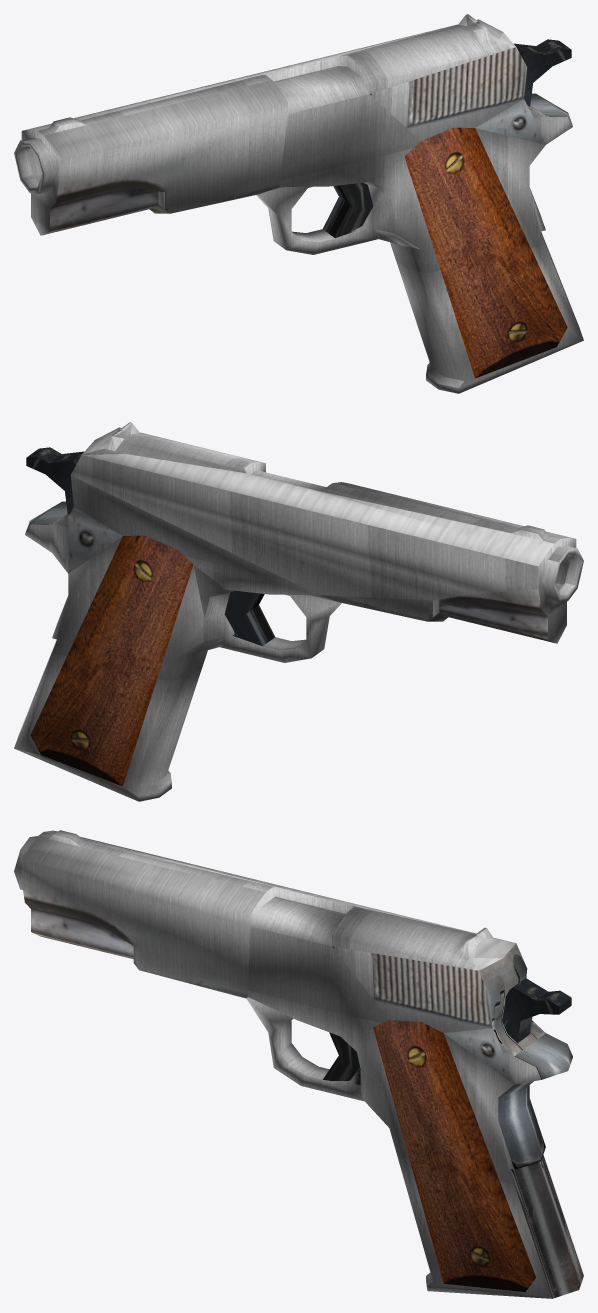
File: colt1911.glb
3 renders of one model, top to bottom at view 1: azimuth 30°, elevation 25°; view 2: azimuth 150°, elevation 25°; view 3: azimuth 330°, elevation 25°, orthographic.
Visible parts, largest first — view 1: handle, Cube.001, Cube; view 2: handle, Cube.001, Cube; view 3: handle, Cube, Cube.001.
Boxes of the visible parts, bbox=[...] form: handle: bbox=[14, 14, 583, 393]; Cube.001: bbox=[323, 182, 373, 238]; Cube: bbox=[514, 39, 571, 106]; handle: bbox=[14, 422, 583, 801]; Cube.001: bbox=[224, 590, 274, 646]; Cube: bbox=[26, 447, 83, 514]; handle: bbox=[14, 830, 583, 1298]; Cube: bbox=[502, 978, 571, 1043]; Cube.001: bbox=[323, 1032, 360, 1084].
Size of the model in its own units: 10.1 by 6.2 by 1.2.
8 materials, 8 textured.
